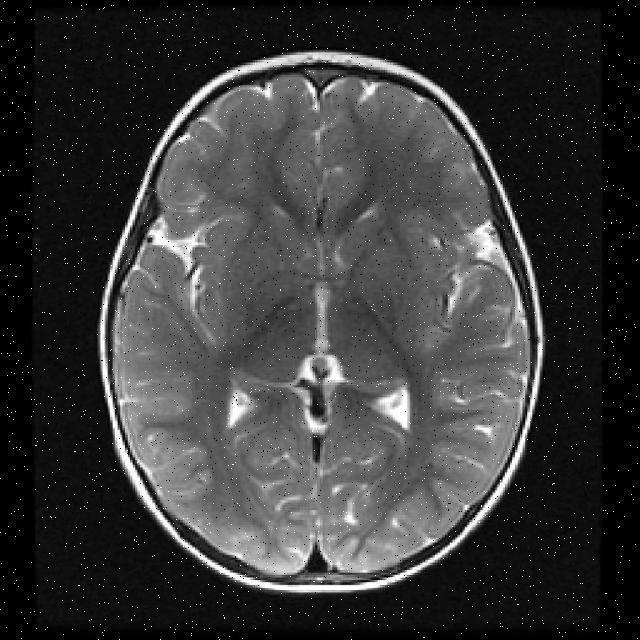No_Tumor: (102, 53, 541, 592)
